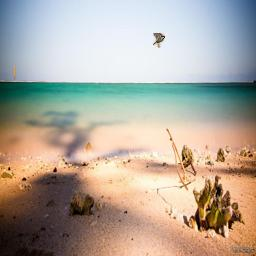Sparrow: (153, 33, 165, 48)
